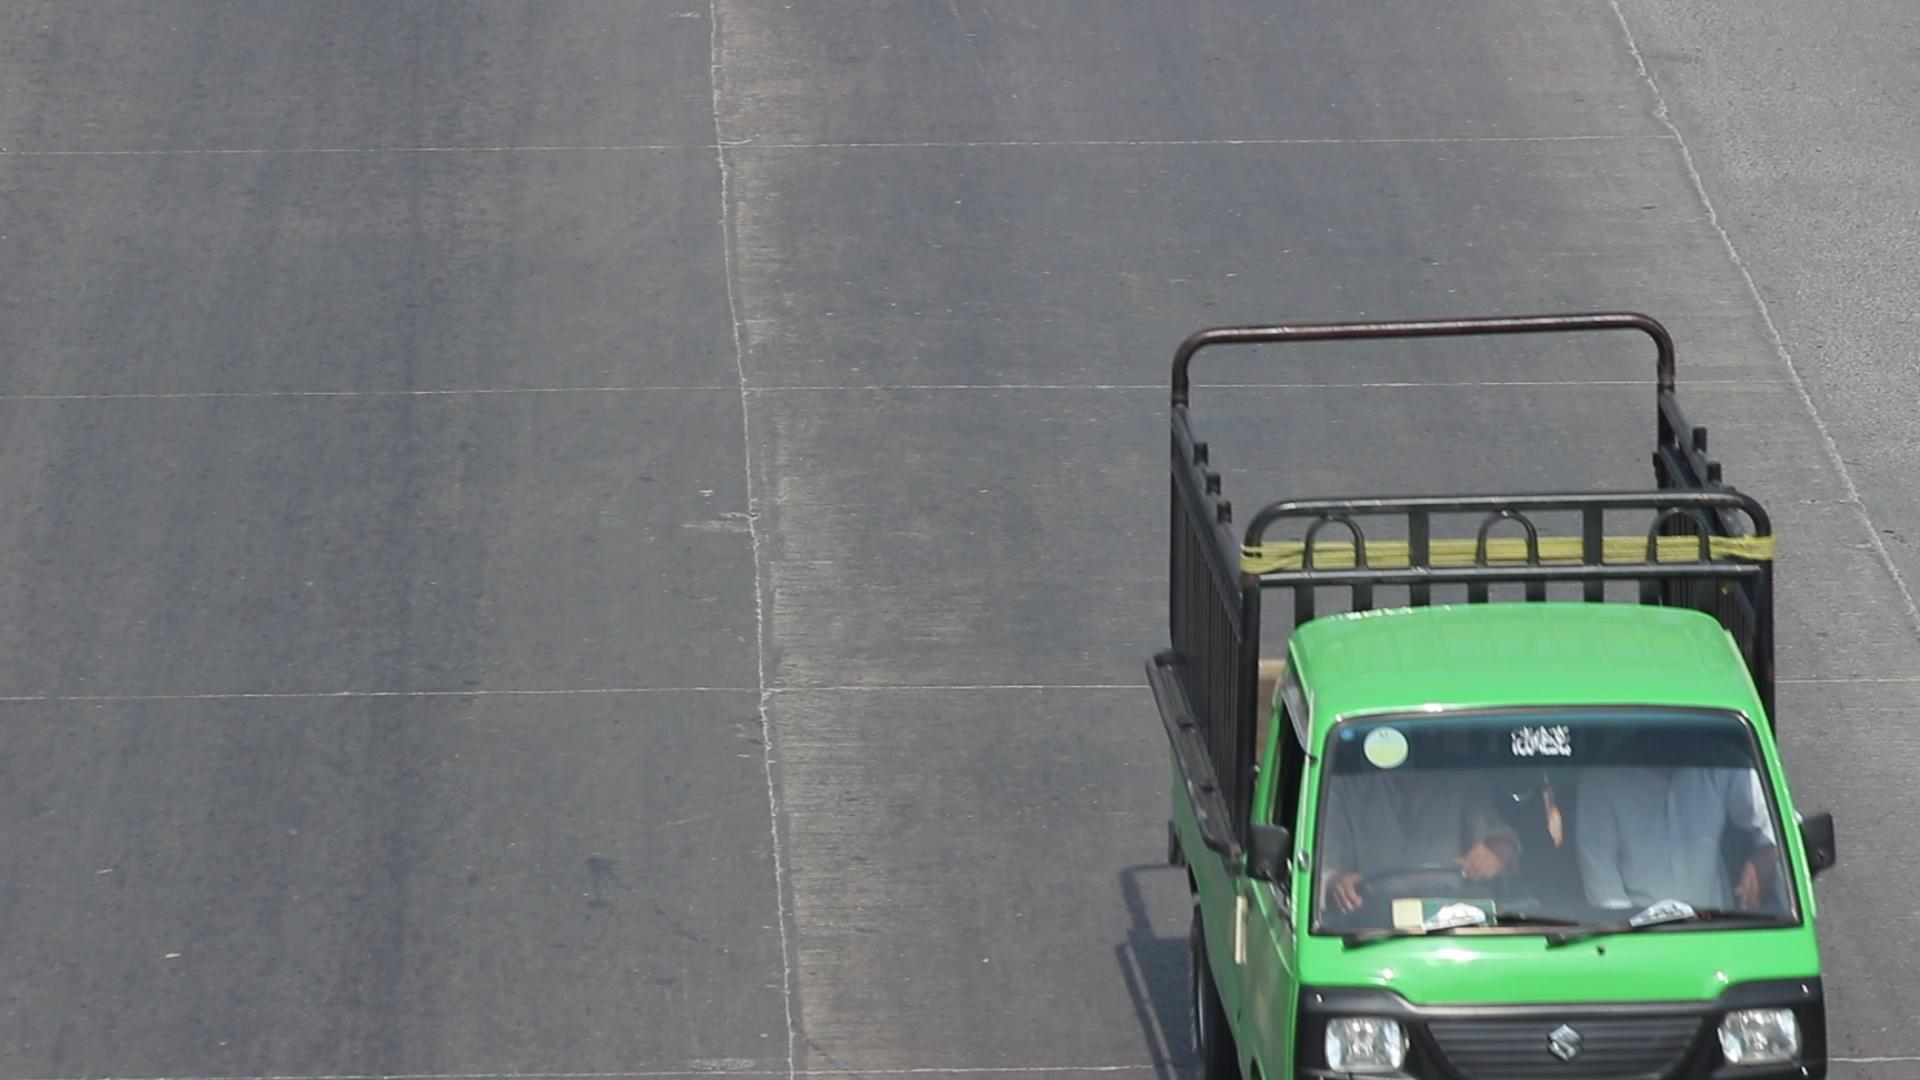windshield: (1300, 696, 1820, 964)
